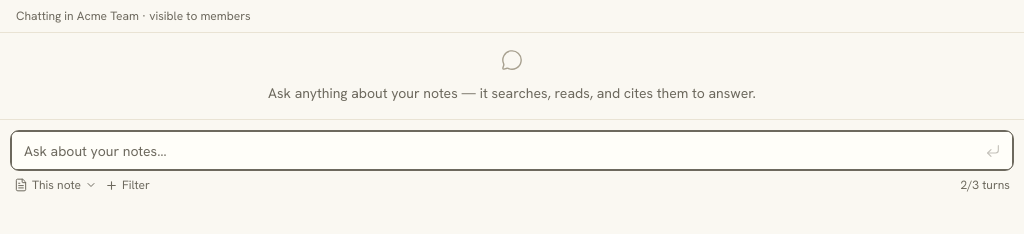
ChatPanel turn allowance (#69) › keeps the meter value after a failed send (a failed turn consumes nothing)
This screenshot has width=1024, height=234.
Check: the text "2/3 turns" is shown, box [961, 177, 1010, 193]
Type "q" into the text box labelled "Ask about your notes…". click: (512, 150)
box: [11, 131, 1013, 170]
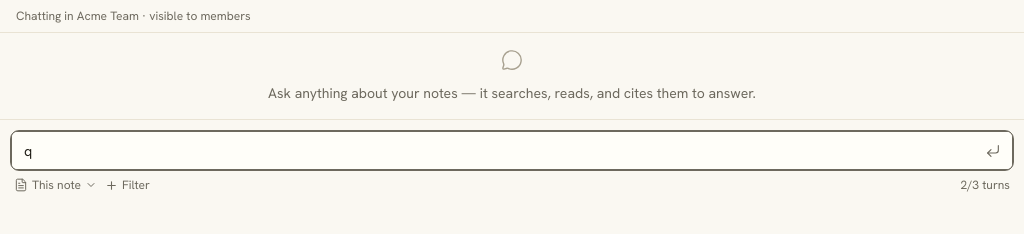
Click the button named "Send". click: (993, 150)
box: [979, 136, 1007, 164]
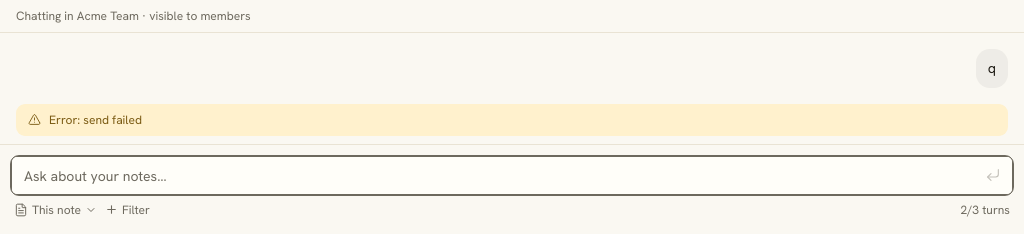
Check: the text "2/3 turns" is shown, box [961, 202, 1010, 218]
Check: the text "Error: send failed" is shown, box [49, 112, 142, 128]
